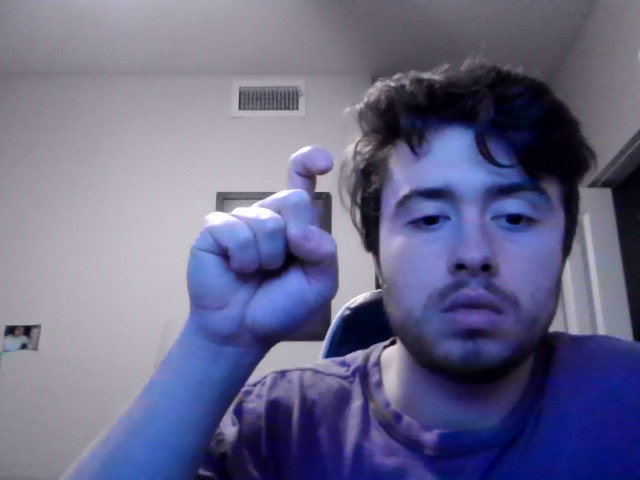x: (184, 144, 340, 392)
